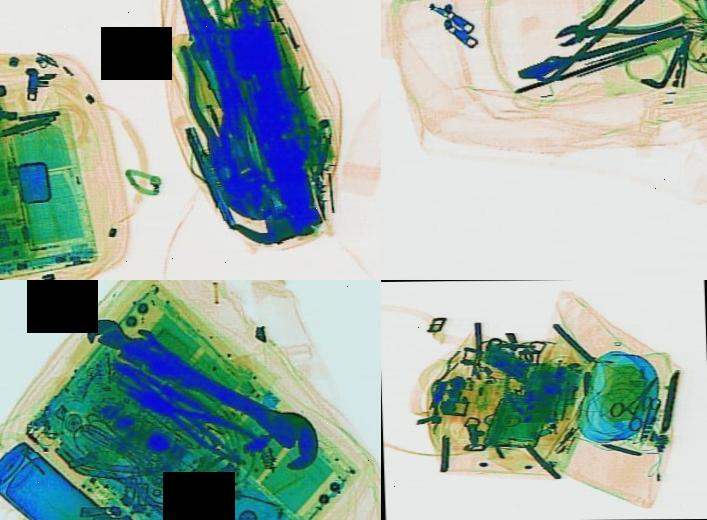Pliers: (130, 365, 264, 470), (170, 38, 258, 194), (105, 349, 234, 446), (536, 0, 694, 68)
Scissors: (595, 369, 676, 433), (624, 394, 661, 443)
Wrench: (172, 352, 334, 477), (76, 308, 190, 393)
